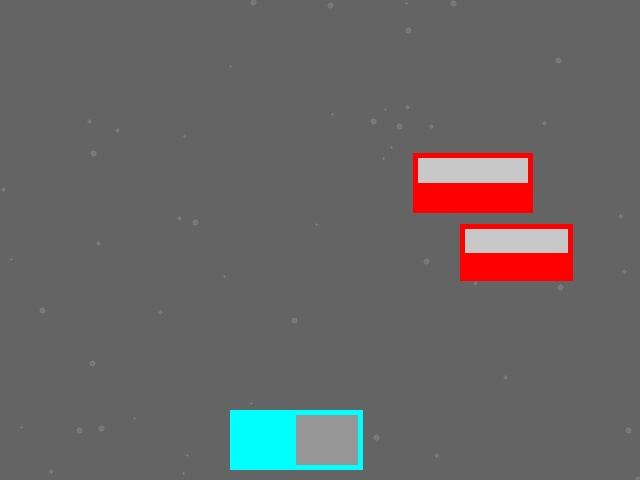car: (413, 153, 532, 212), (460, 224, 572, 280)
truck: (230, 410, 362, 469)
